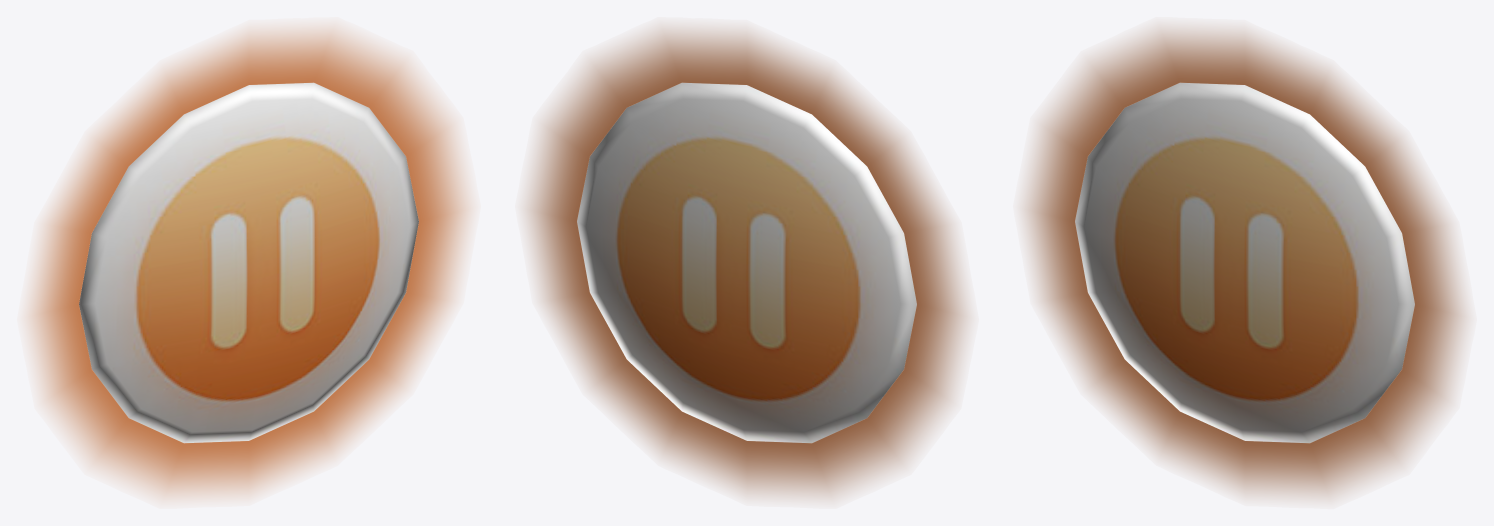
File: fujingzhiqin_tb.b89891b.glb
3 renders of one model, left to right at view 1: azimuth 30°, elevation 25°; view 2: azimuth 150°, elevation 25°; view 3: azimuth 330°, elevation 25°, orthographic.
Parts seen in each view (by area): view 1: 状态图标012; view 2: 状态图标012; view 3: 状态图标012.
Boxes of the visible parts, left/top/right/bottom form: 状态图标012: left=28, top=29, right=469, bottom=496; 状态图标012: left=526, top=29, right=967, bottom=496; 状态图标012: left=1024, top=29, right=1465, bottom=496.
Bounding box in the file's own units: 0.8291 × 0.8291 × 0.09.
Materials: 2 (2 with a texture image).
